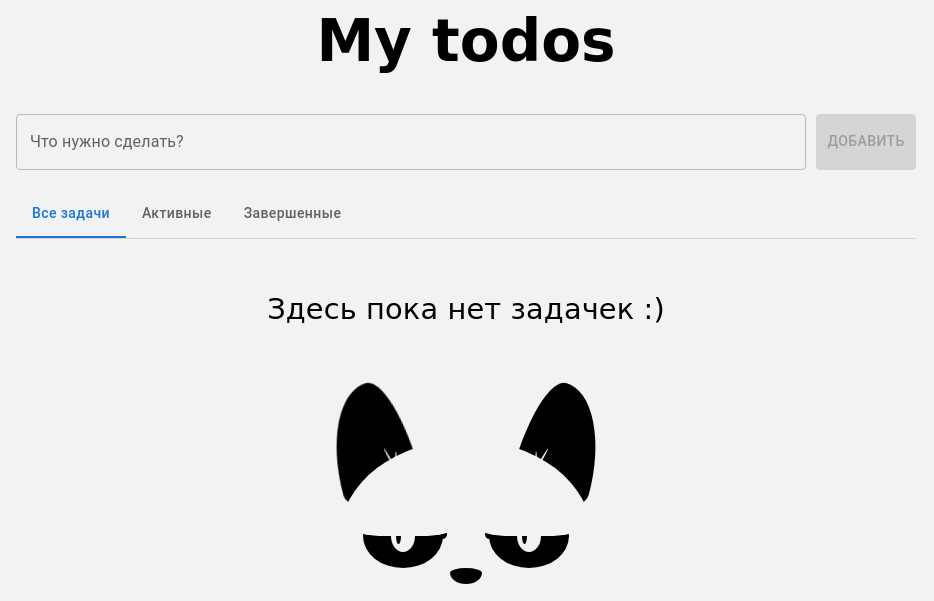
Test: Тестирование функционала добавления и редактирования задачи › дело добавляется в список задач
This screenshot has width=934, height=601.
Step 1. Type "Погладить кошку" into the element with test id "input" → {"x": 411, "y": 142}, box [16,114,806,170]
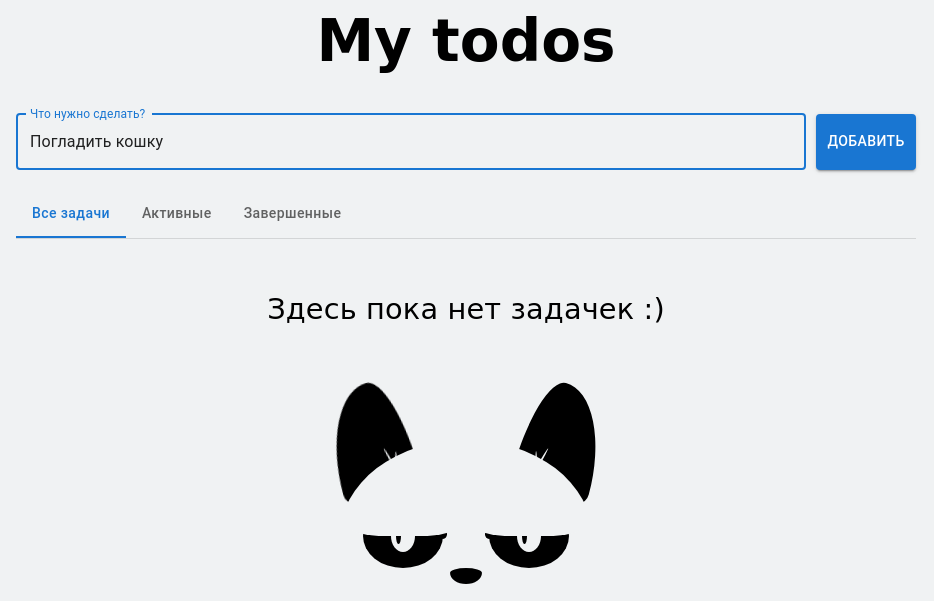
Step 2. Click the button with test id "addButton" → {"x": 866, "y": 142}, box [816,114,916,170]
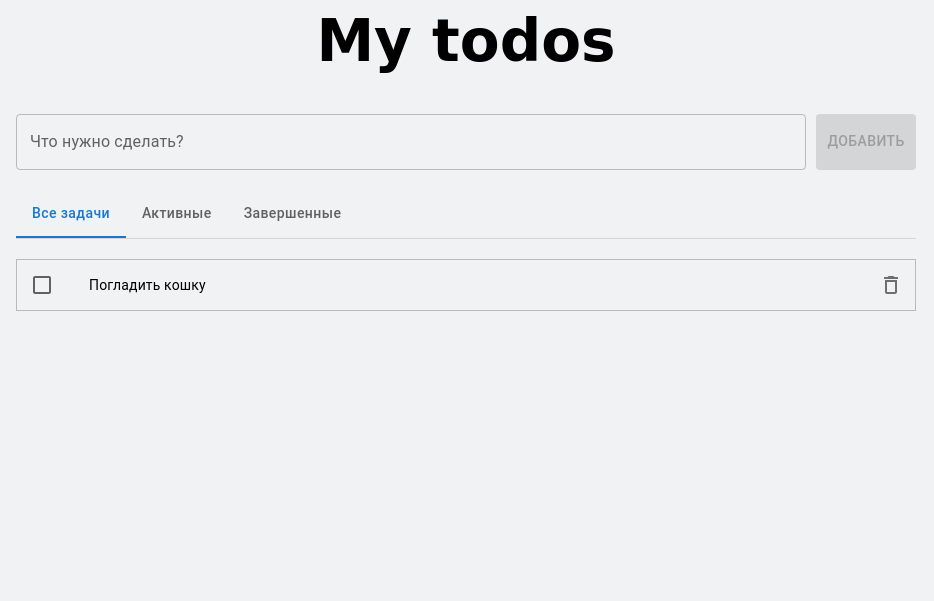
Now the text "Погладить кошку" is shown, box [89,277,206,293]
